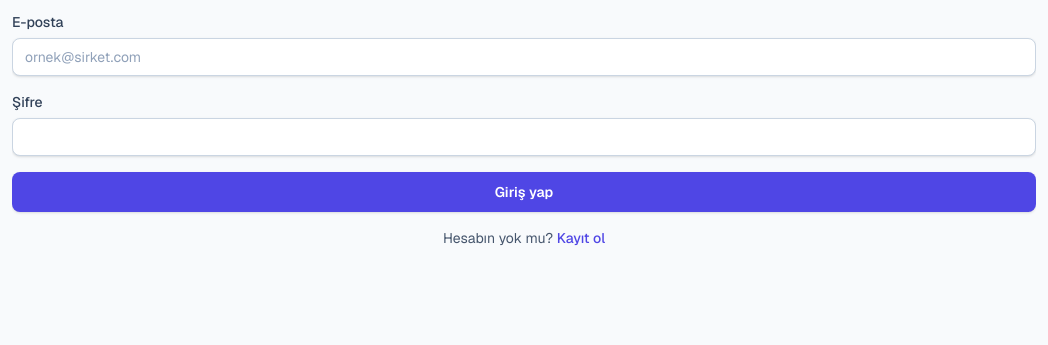
Test: LoginForm › server action'dan gelen e-posta alan hatasını gösterir
Step 1. Type "gecersiz" into the field labelled "E-posta" → coordinates (524, 57), box top-left (12, 38), bottom-right (1036, 76)
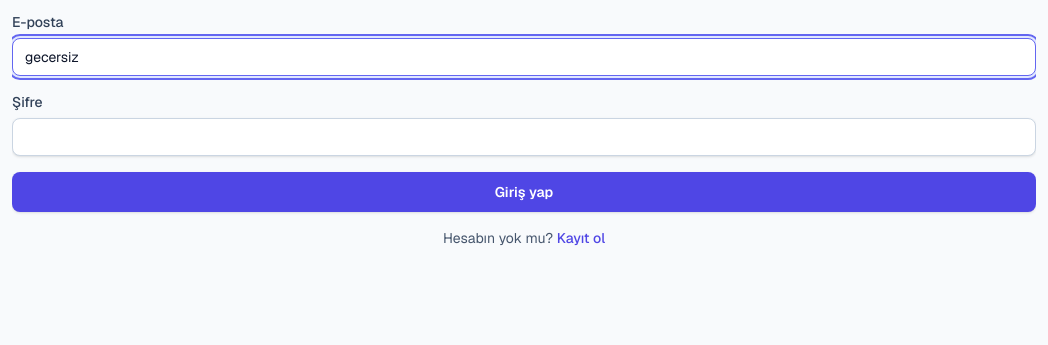
Step 2. Type "sifre123" into the password field labelled "Şifre" → coordinates (524, 137), box top-left (12, 118), bottom-right (1036, 156)
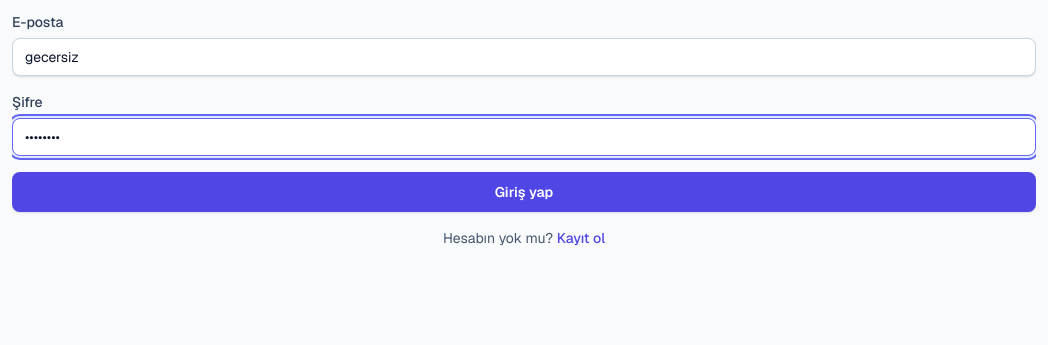
Step 3. Click the button "Giriş yap" → coordinates (524, 192), box top-left (12, 172), bottom-right (1036, 212)
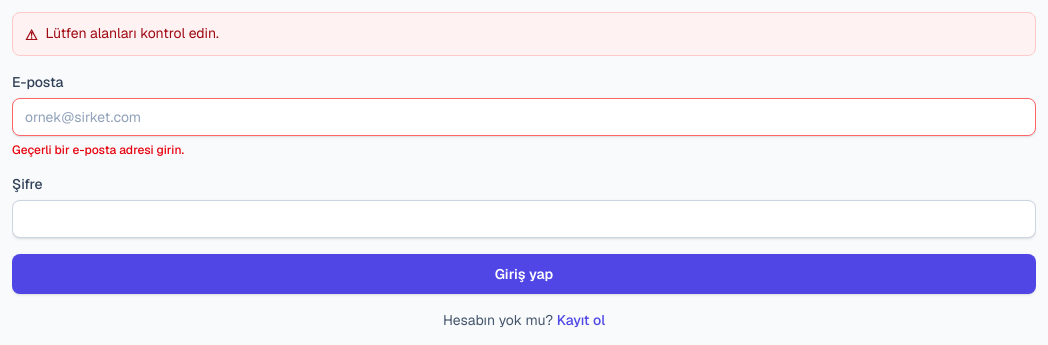
expect the text "Geçerli bir e-posta adresi girin." is shown: met, box top-left (12, 142), bottom-right (184, 158)
